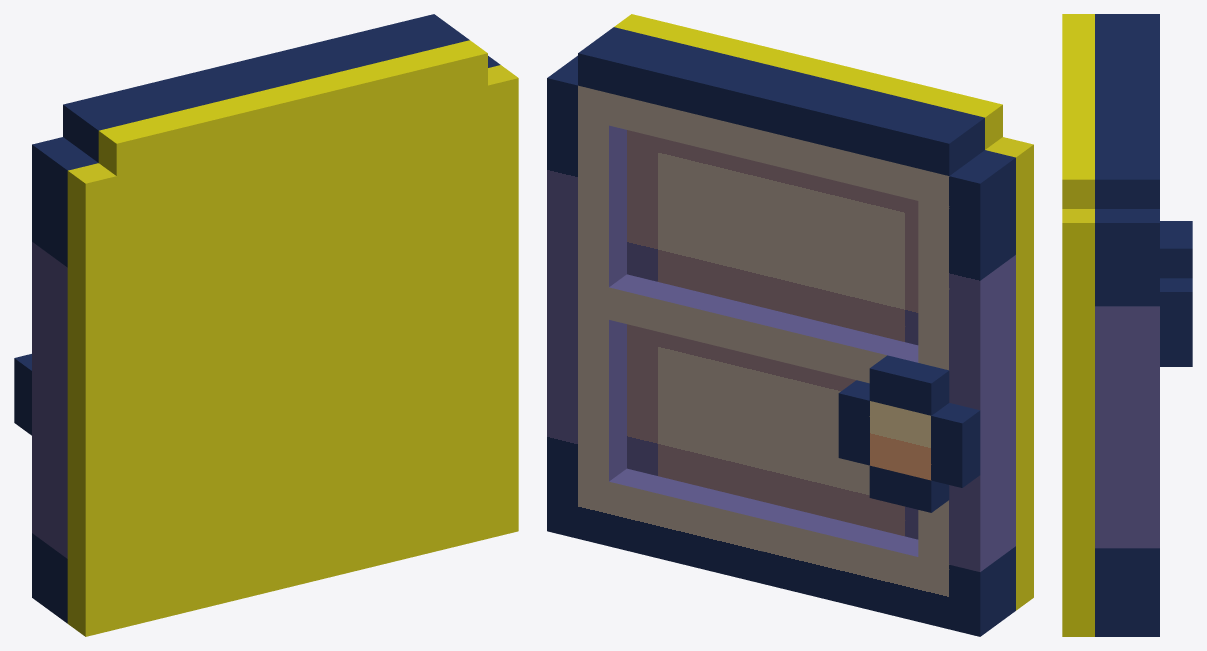
File: Door.gltf
The picture shows the model from 3 angles, left to right: view 1: azimuth 30°, elevation 25°; view 2: azimuth 150°, elevation 25°; view 3: azimuth 270°, elevation 25°; orthographic projection. The views are drawn at different scales.
Visible parts, largest first — view 1: bg, door; view 2: door, bg; view 3: door, bg.
Boxes of the visible parts, left/top/right/bottom form: bg: left=67, top=40, right=518, bottom=636; door: left=14, top=14, right=500, bottom=623; door: left=547, top=27, right=1015, bottom=636; bg: left=614, top=14, right=1033, bottom=610; door: left=1095, top=14, right=1192, bottom=636; bg: left=1062, top=14, right=1094, bottom=636.
Size of the model in its own units: 0.875 by 0.9375 by 0.25.
2 materials, 2 textured.
